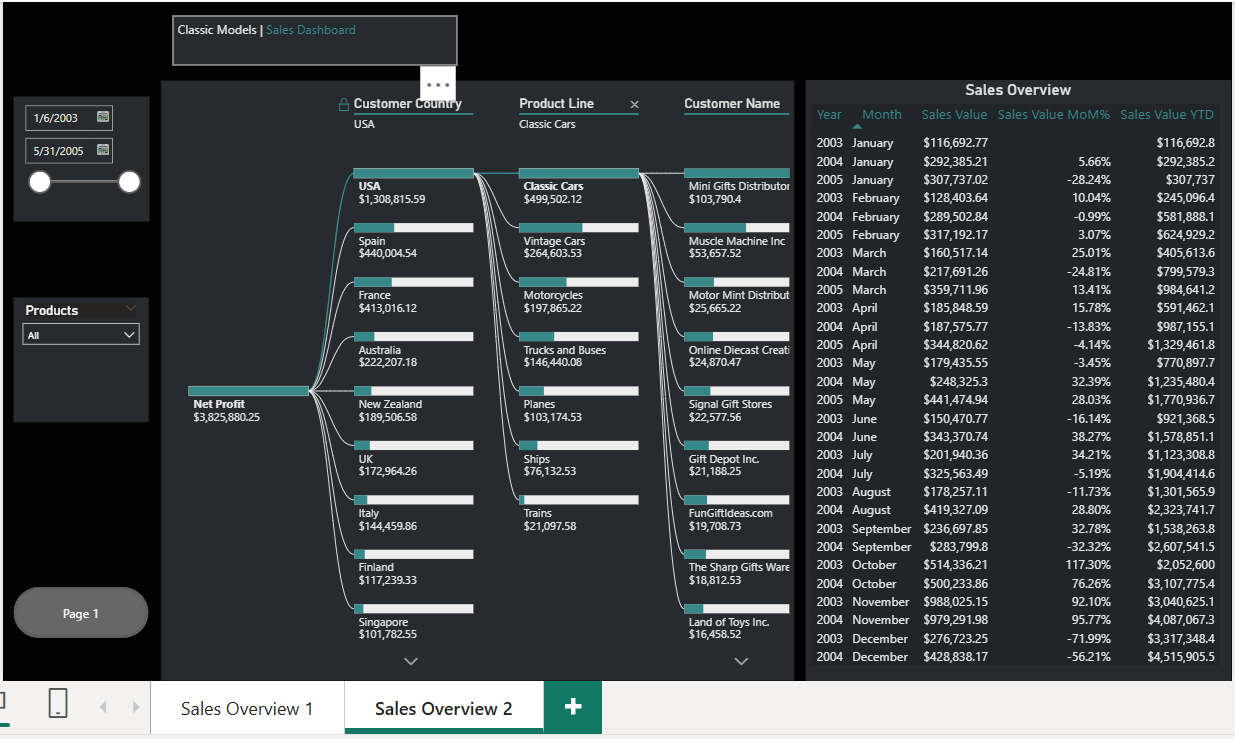

Layout of this report page (visuals, bound fields, positions):
{"tool":"powerbi","page":{"name":"Sales Overview 2","canvas":[1340,740],"ordinal":1},"visuals":[{"type":"decompositionTreeVisual","fields":{"Analyze":["Sales Data for Power BI.Net Profit"],"ExplainBy":["Sales Data for Power BI.customer_country","Sales Data for Power BI.productLine","Sales Data for Power BI.customerName"]},"box":[171.7,85,691.5,655.6],"z":0},{"type":"textbox","box":[184.5,14.3,310.2,54.1],"z":1000},{"type":"tableEx","title":"Sales Overview","fields":{"Values":["Sales Data for Power BI.orderdate.Variation.Date Hierarchy.Year","Sales Data for Power BI.orderdate.Variation.Date Hierarchy.Month","Sum(Sales Data for Power BI.sales_value)","Sales Data for Power BI.Sum of sales_value MoM%","Sales Data for Power BI.Sum of sales_value YTD"]},"box":[874.6,85,464.3,655.6],"z":2000},{"type":"actionButton","box":[11.4,637.6,147.1,55.6],"z":3000},{"type":"slicer","fields":{"Values":["Sales Data for Power BI.orderdate"]},"box":[11.4,103,147.1,135.7],"z":4000},{"type":"slicer","fields":{"Values":["Sales Data for Power BI.productName"]},"box":[11.4,322.1,147.1,135.7],"z":5000}]}

Visuals, with their boxes on the page's 1340x740 design canvas (x1, y1, x2, y2). These are canvas units, not pixel positions in the 1235x739 screenshot, which may show the page scaled, cropped or inside an application window:
decompositionTreeVisual - Sales Data for Power BI.Net Profit x Sales Data for Power BI.customer_country: select_region(172, 85, 863, 741)
textbox: select_region(184, 14, 495, 68)
"Sales Overview" tableEx: select_region(875, 85, 1339, 741)
actionButton: select_region(11, 638, 158, 693)
slicer - Sales Data for Power BI.orderdate: select_region(11, 103, 158, 239)
slicer - Sales Data for Power BI.productName: select_region(11, 322, 158, 458)
